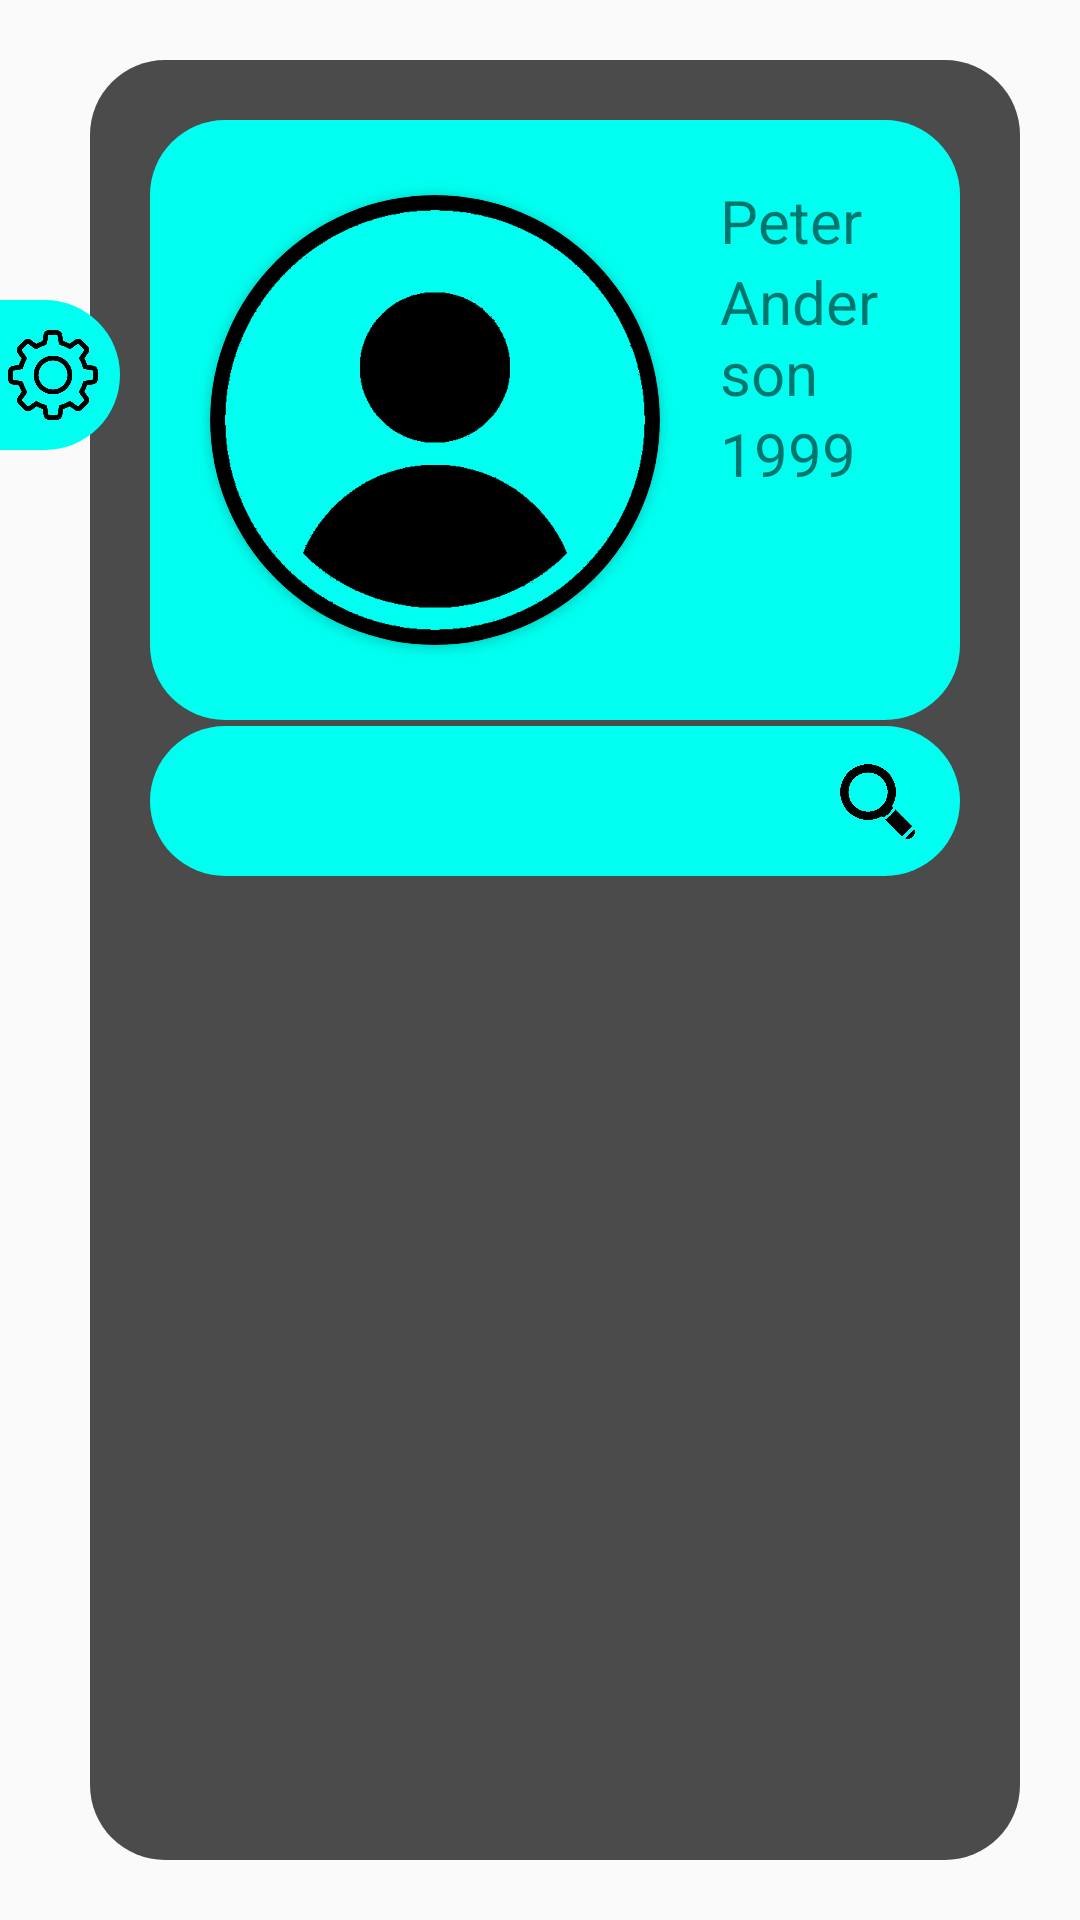

Icon bounding boxes for this 1080×1920 phone screenshot, format (x1, y1, x2, y2):
gear: (8, 330, 98, 420)
searrch: (840, 764, 915, 839)
